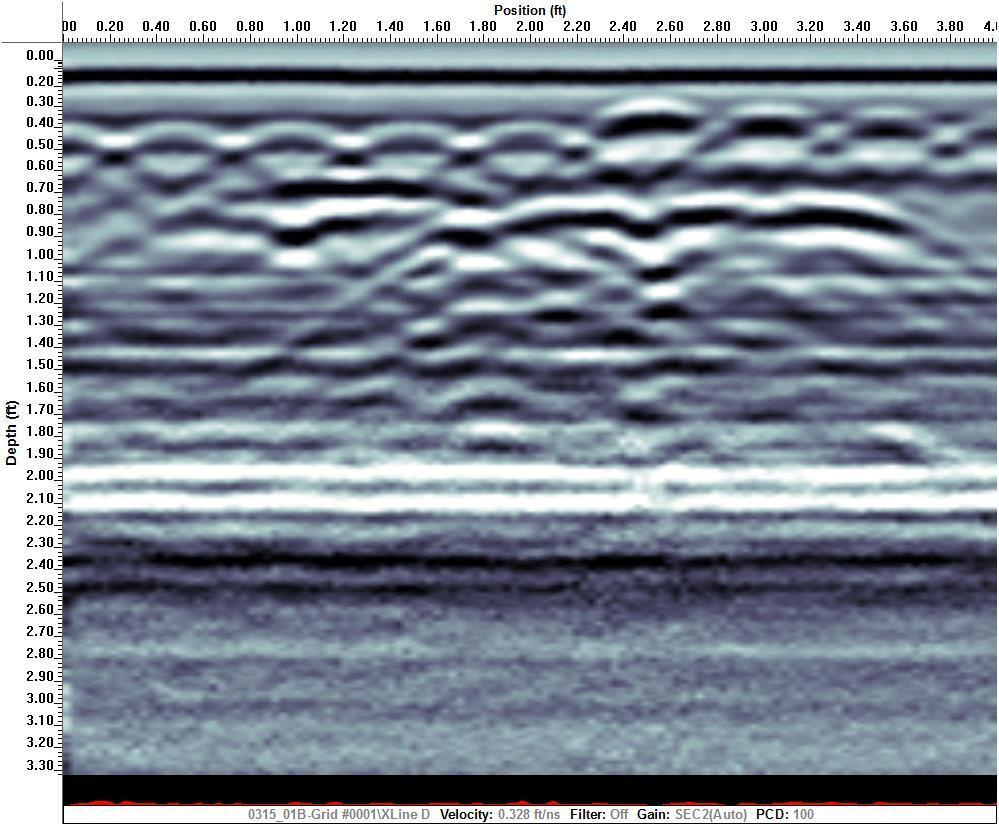hyperbola: (566, 91, 725, 180), (683, 96, 842, 185), (222, 116, 361, 166), (338, 116, 477, 166), (453, 114, 592, 164), (98, 113, 237, 163)
